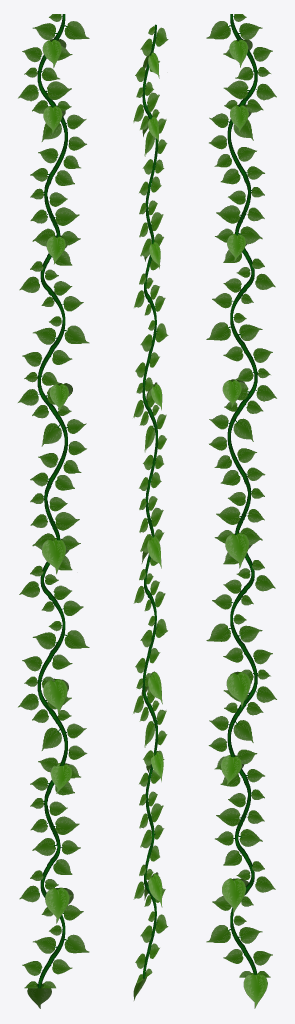
The model's file is VinesThinShort.fbx.
The picture shows the model from 3 angles, left to right: view 1: azimuth 90°, elevation 25°; view 2: azimuth 150°, elevation 25°; view 3: azimuth 270°, elevation 25°; orthographic projection. The views are drawn at different scales.
Parts seen in each view (by area): view 1: Plane#2; view 2: Plane#2; view 3: Plane#2.
Part boxes in pixels (box(x1,y1,x2,y2)): Plane#2: box(18, 14, 89, 1008); Plane#2: box(133, 24, 168, 1000); Plane#2: box(206, 14, 276, 1008).
Size of the model in its own units: 0.1625 by 6.53 by 0.4741.
2 materials, 2 textured.
